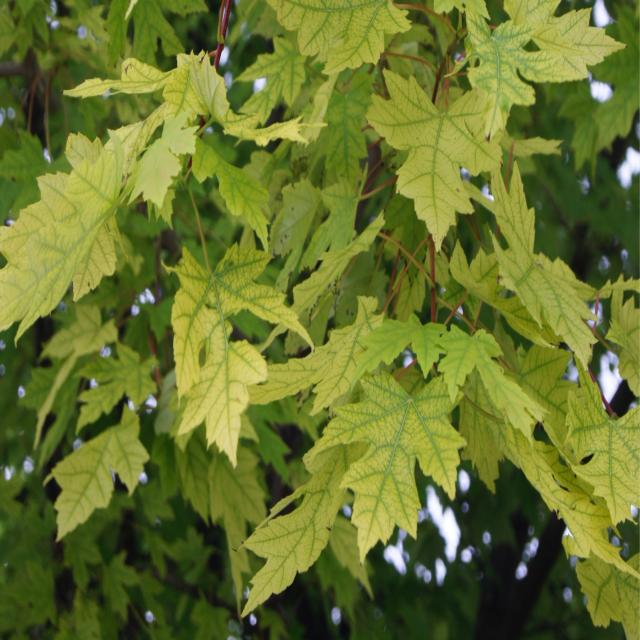Chlorosis: (19, 51, 293, 479)
